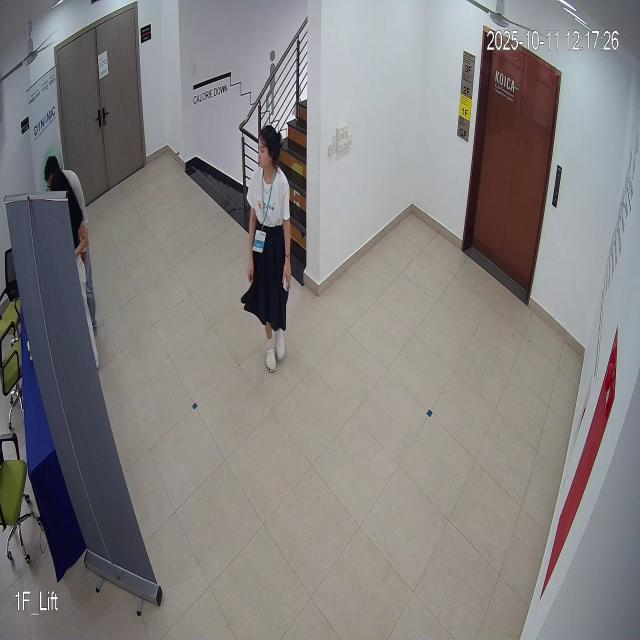face: (255, 124, 282, 186)
